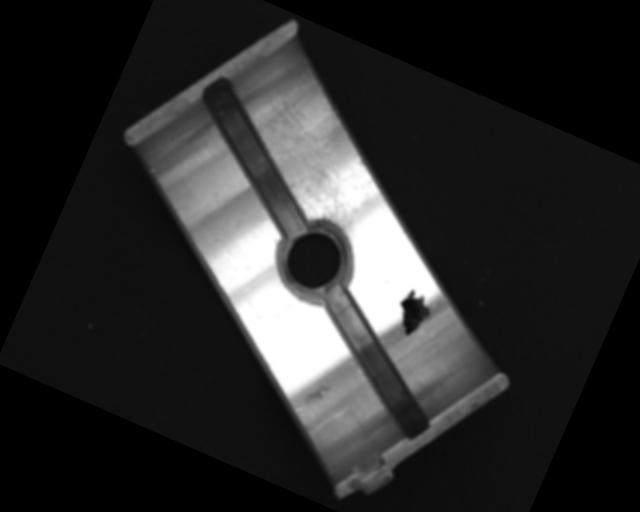blot: (387, 286, 437, 342)
bruise: (301, 376, 334, 411)
gap: (163, 74, 347, 244), (288, 285, 465, 445)
hole: (262, 207, 367, 313)
scratch: (224, 60, 403, 242)
